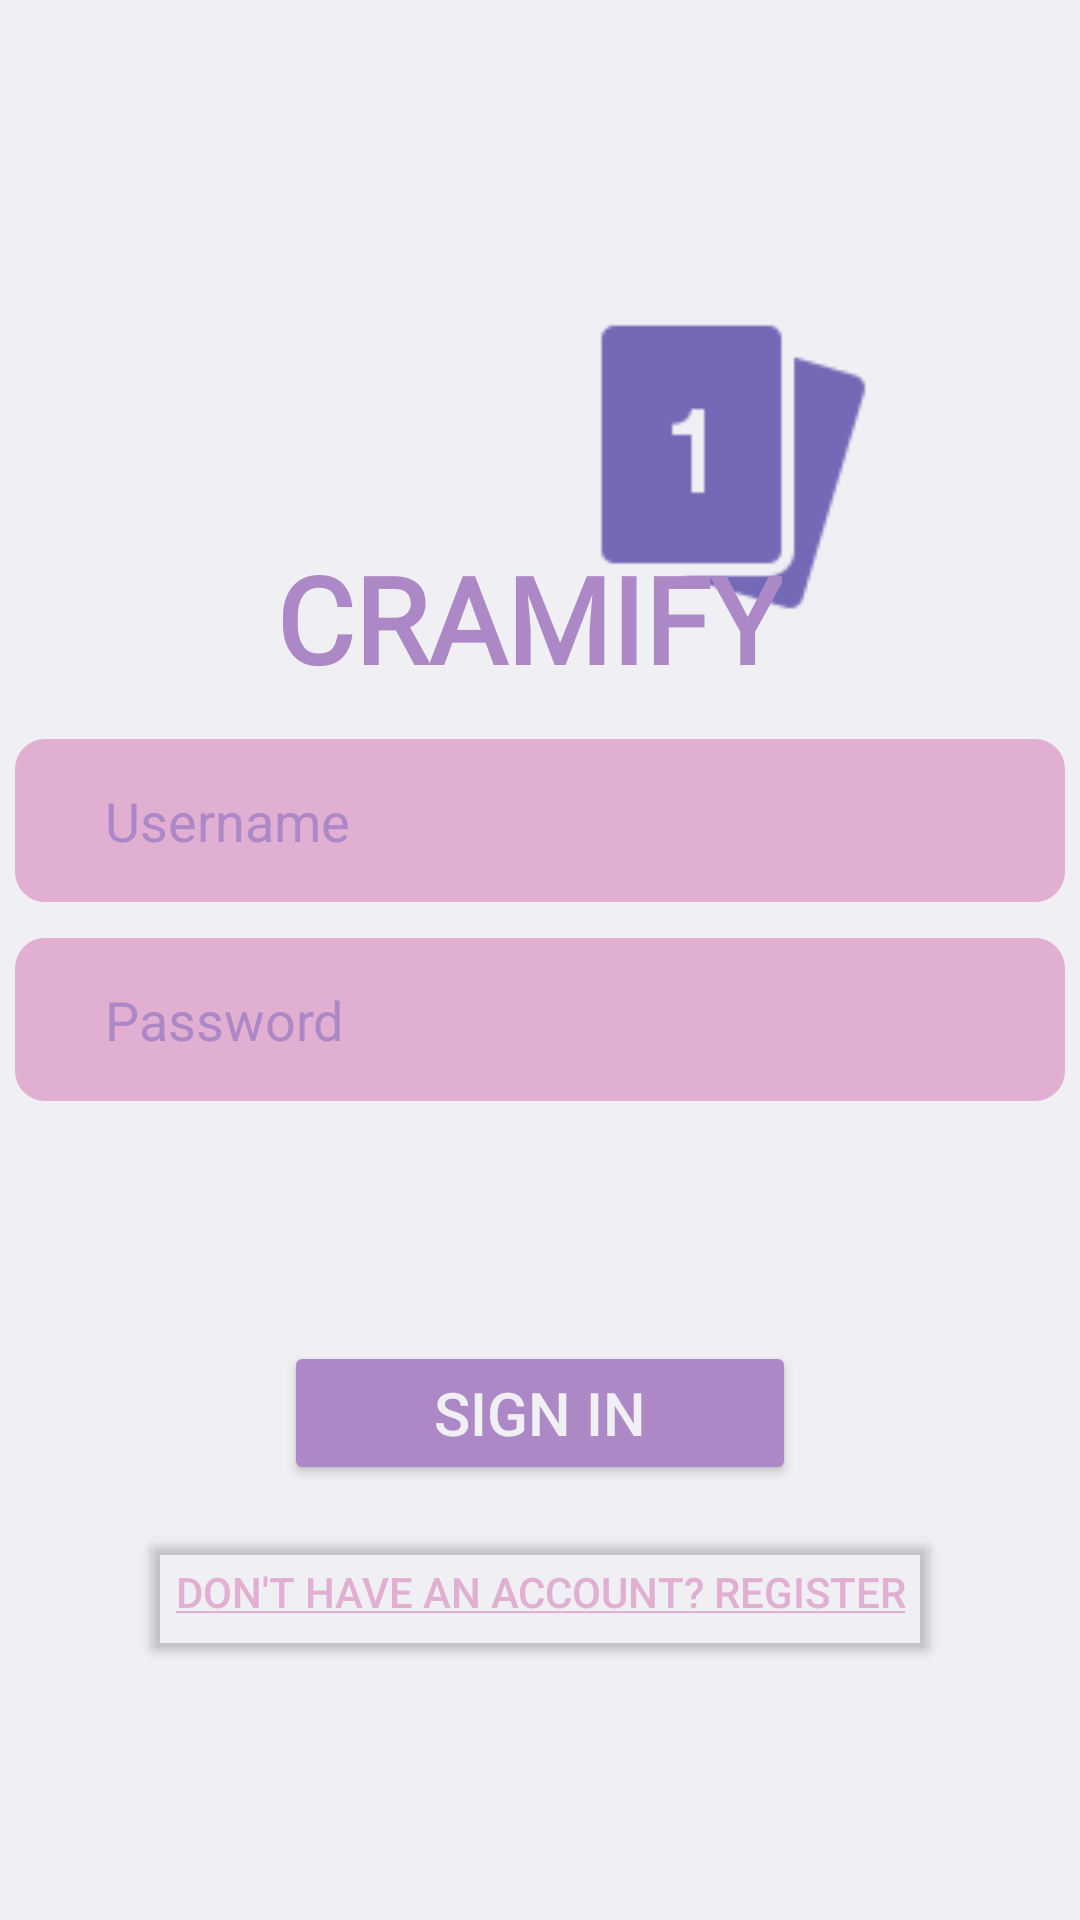

Point at icon controls on the screen. Image size 1080 x 1920, points as point (x, y).
card: point (691, 444)
